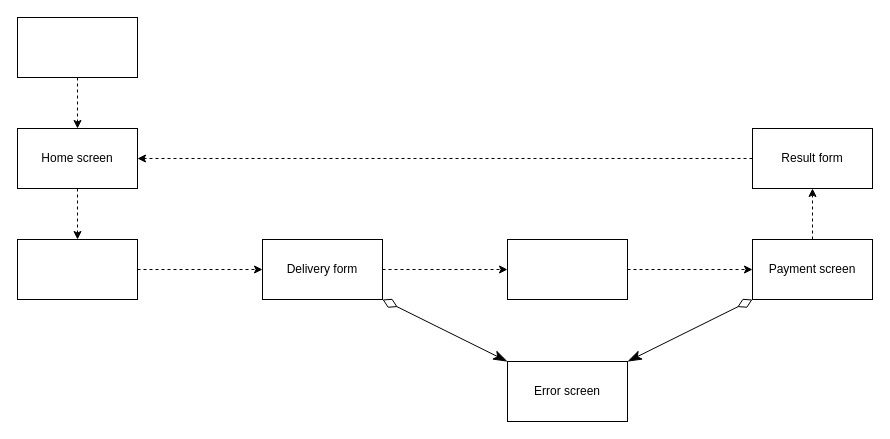
Image size: 890x439. Some labels were removed from this diagram. Here are the shapes that lost their labels. From the top down, the centre of each, then its label:
the point at 77,47: Splash screen
the point at 77,269: Cart screen
the point at 567,269: Invoice screen
